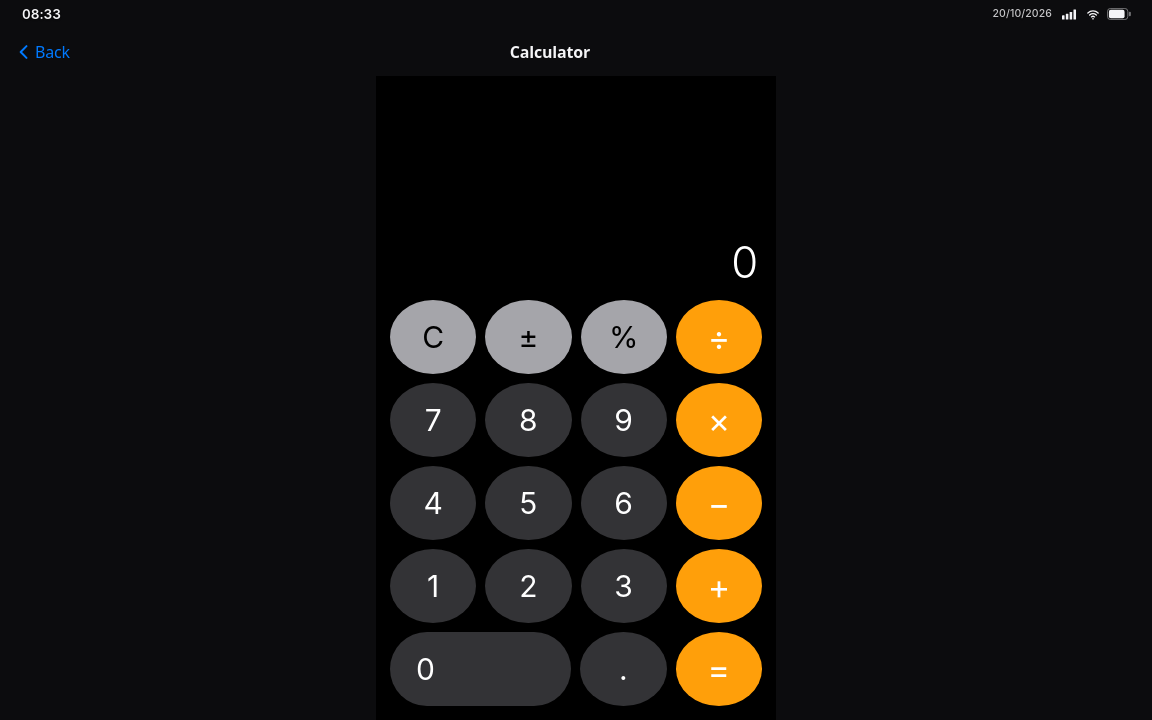
Test: CalculatorApp (mobile) › ± flips the sign of the current number
Click the button "8" at (528, 420), box [485,383,572,457]
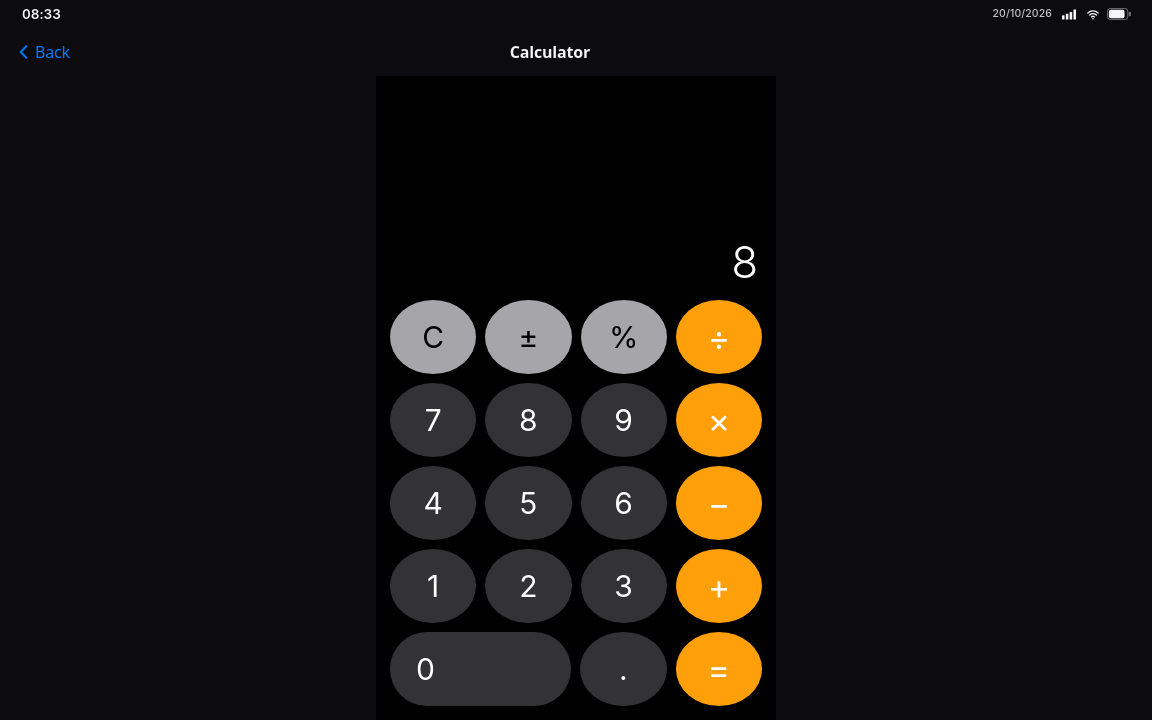
Click the button "±" at (528, 337), box [485,300,572,374]
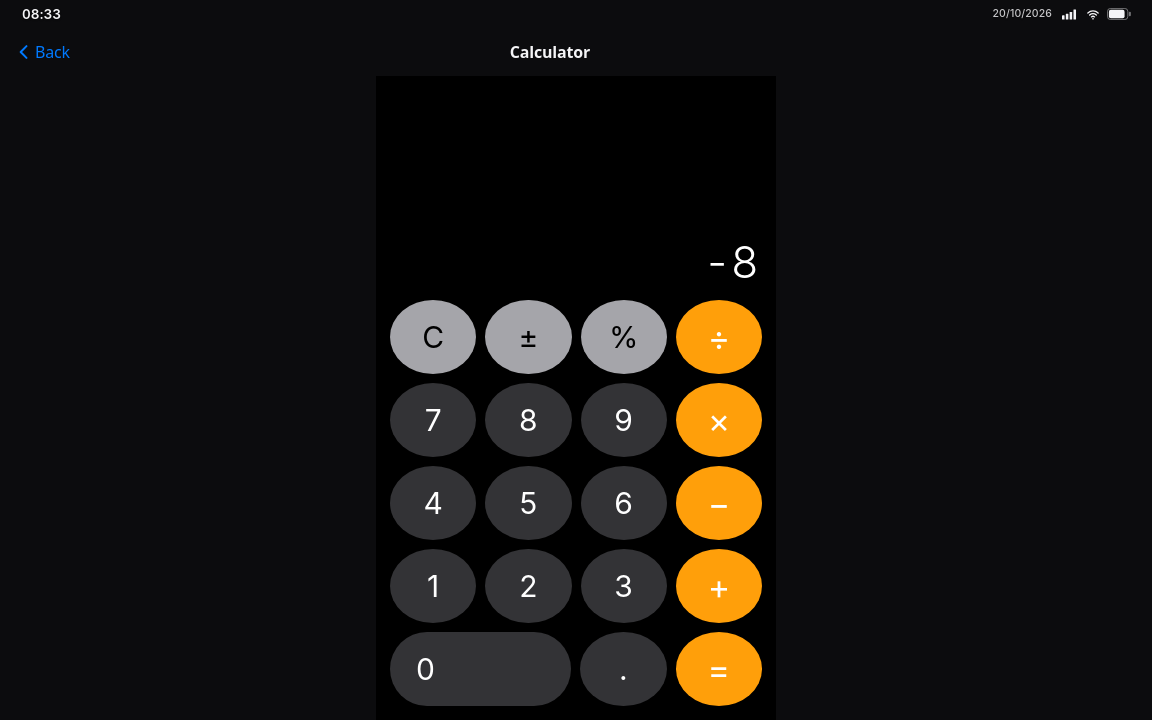
Check: the text with test id "mobile-calculator-display" reads "-8", box [703,235,758,289]
